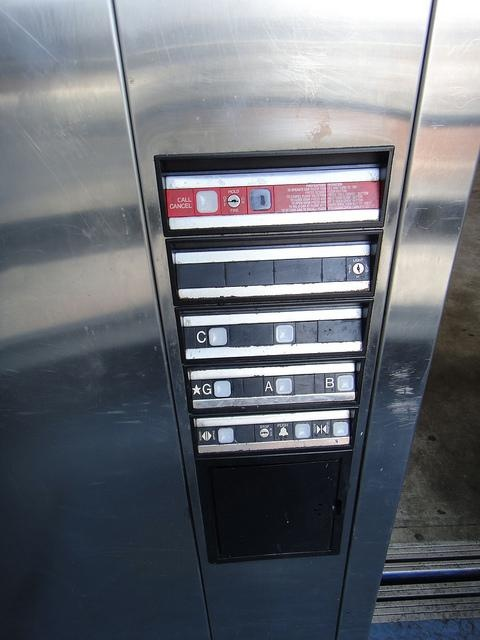A: (255, 372, 296, 398)
B: (313, 369, 357, 395)
C: (183, 322, 230, 350)
alarm: (273, 417, 313, 441)
bt_keyhole: (220, 183, 276, 217), (320, 254, 371, 283), (236, 421, 274, 444)
close: (312, 415, 351, 440)
empty: (254, 319, 298, 347)
open: (196, 423, 236, 446)
sG: (190, 375, 234, 401)
text_call cancel: (165, 185, 220, 218)
